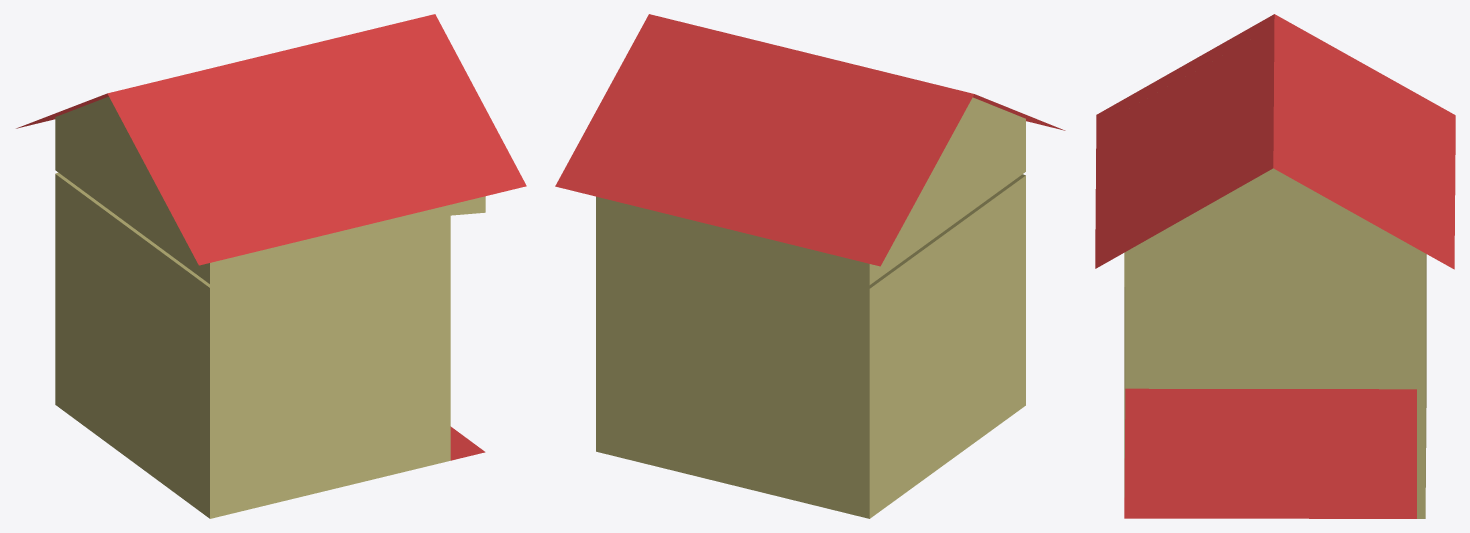
3 views of the same model, side by side, from view 1: azimuth 30°, elevation 25°; view 2: azimuth 150°, elevation 25°; view 3: azimuth 270°, elevation 25° (orthographic). The views are drawn at different scales.
Size of the model in its own units: 9.45 by 9.3 by 10.32.
